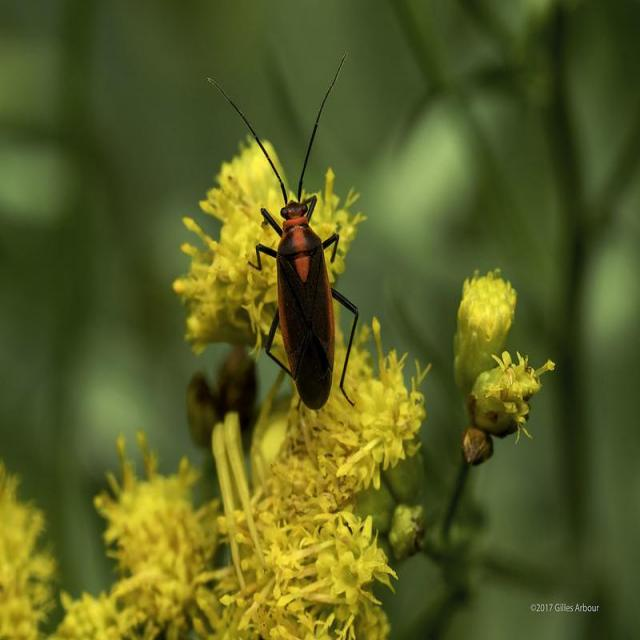Miridae-Adult-: (205, 49, 365, 411)
